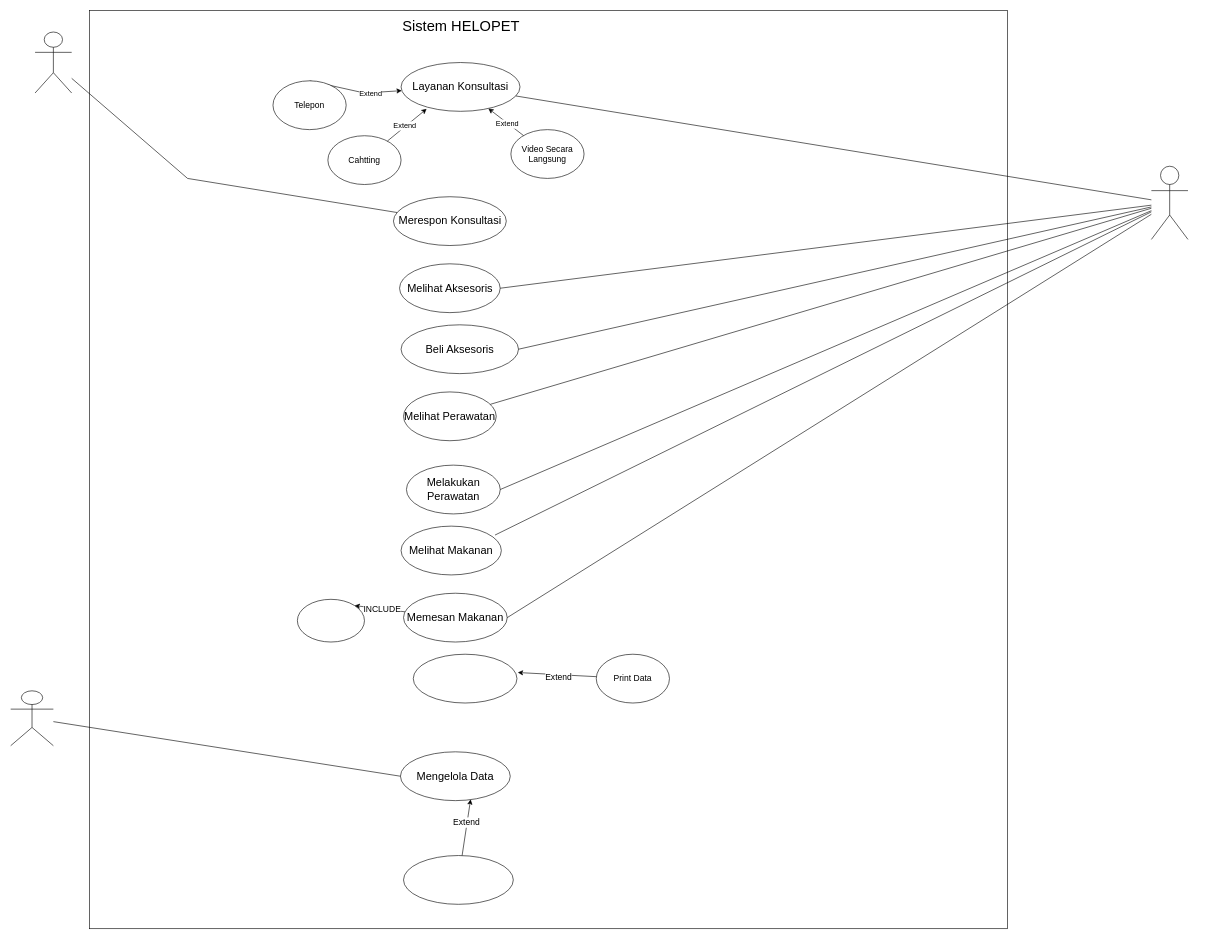
This 1216x939 diagram has some shape labels left out. The shapes that lost their labels are listed below. From the top down, each one's centre as x and y in pixels, then its label:
At point 53,62: "Dokter".
At point 1169,202: "Customers".
At point 330,620: "Minuman".
At point 465,678: "Melihat Detail Hewan Peliharaan".
At point 31,718: "Admin".
At point 458,879: "Update Data".
